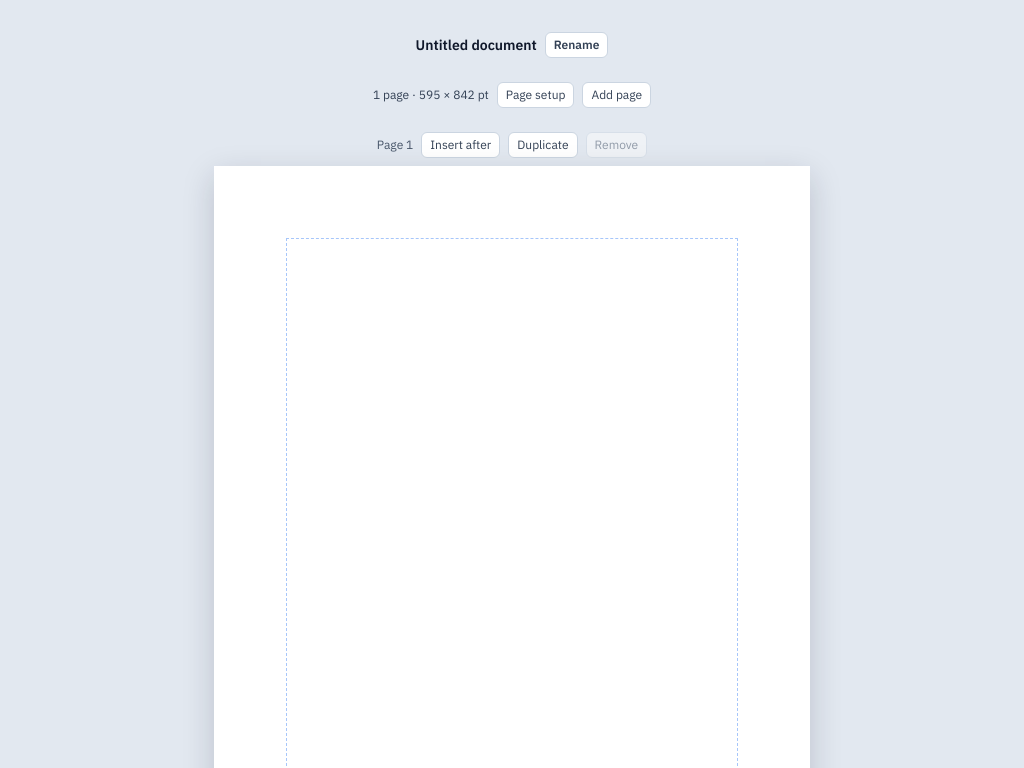
Test case: WriterBlankDocumentCanvas page setup flow › opens page setup dialog from top controls
Click the button with test id "writer-blank-document-page-setup-button" at (536, 95), box [497, 82, 574, 108]
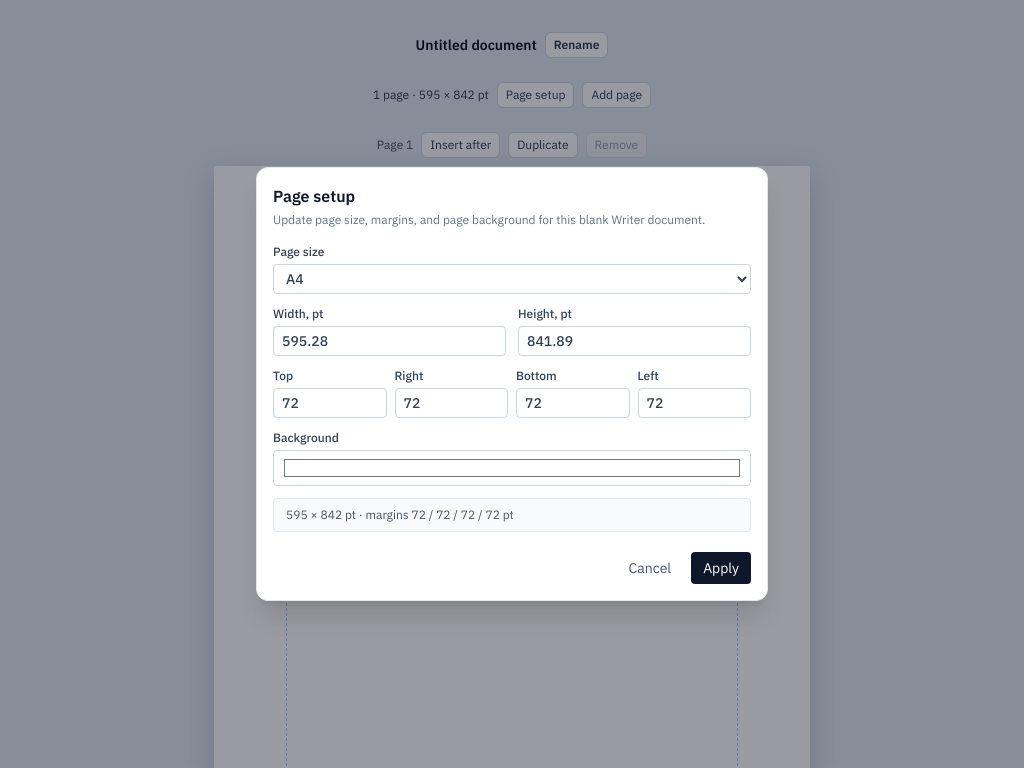
Expected: the dialog with test id "blank-document-page-setup-dialog" is shown
